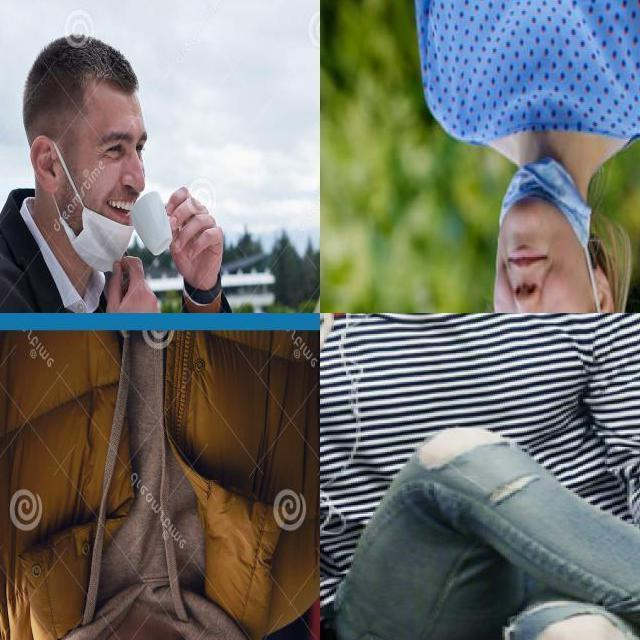hairnet: (493, 159, 600, 311), (45, 162, 148, 277)
